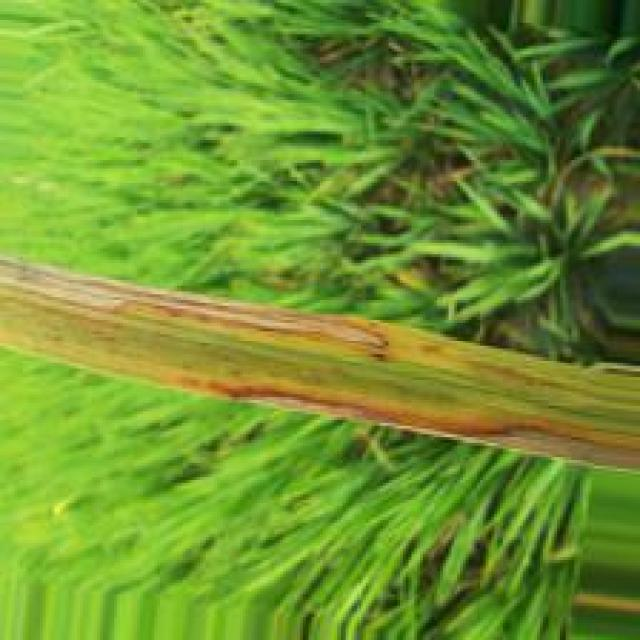Leaf_Blast: (130, 372, 640, 475), (0, 251, 387, 355)
